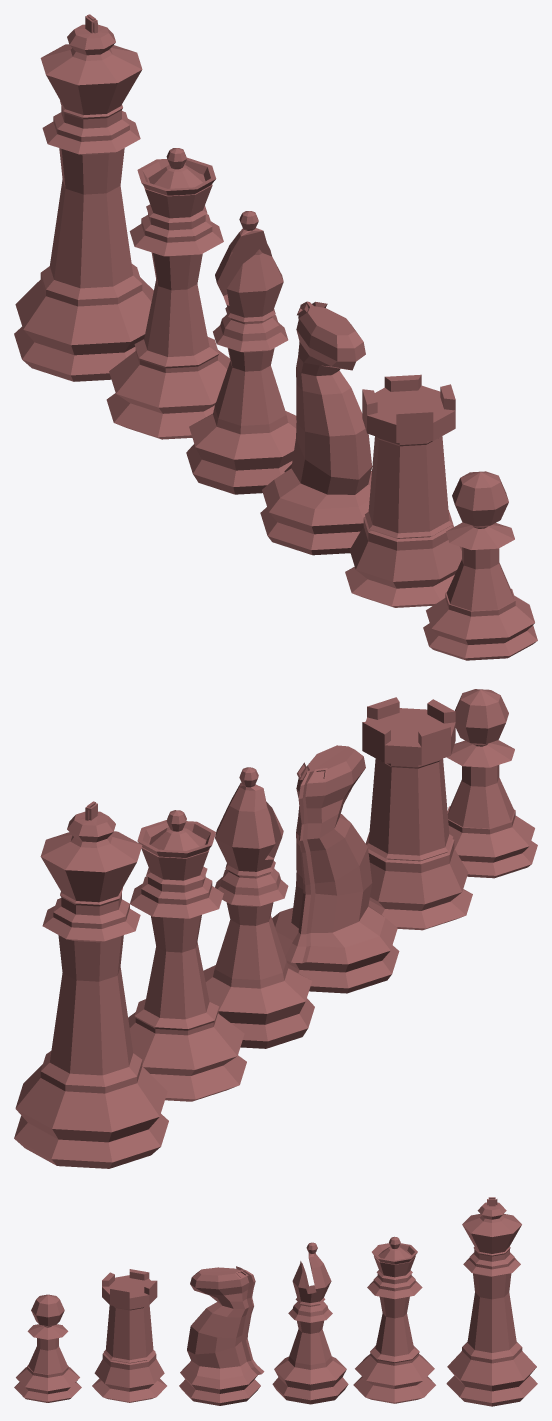
The model's file is chess.obj.
3 renders of one model, top to bottom at view 1: azimuth 30°, elevation 25°; view 2: azimuth 150°, elevation 25°; view 3: azimuth 270°, elevation 25°, orthographic. The views are drawn at different scales.
Parts seen in each view (by area): view 1: King, Queen, Rook, Knight, Bishop, Pawn; view 2: King, Queen, Rook, Knight, Bishop, Pawn; view 3: King, Knight, Queen, Rook, Bishop, Pawn.
Part boxes in pixels (x1,y1,x2,y2): King: [14, 14, 153, 381]; Queen: [106, 148, 230, 439]; Rook: [345, 374, 461, 607]; Knight: [260, 301, 372, 555]; Bishop: [186, 211, 296, 494]; Pawn: [423, 471, 537, 660]; King: [14, 801, 168, 1168]; Queen: [128, 810, 246, 1101]; Rook: [362, 697, 472, 930]; Knight: [272, 745, 399, 993]; Bishop: [203, 767, 314, 1048]; Pawn: [447, 689, 537, 878]; King: [446, 1197, 537, 1406]; Knight: [179, 1266, 264, 1405]; Queen: [353, 1236, 435, 1403]; Rook: [92, 1269, 166, 1402]; Bishop: [272, 1242, 348, 1404]; Pawn: [14, 1294, 81, 1402].
Size of the model in its own units: 0.0505 by 0.1169 by 0.2887.
